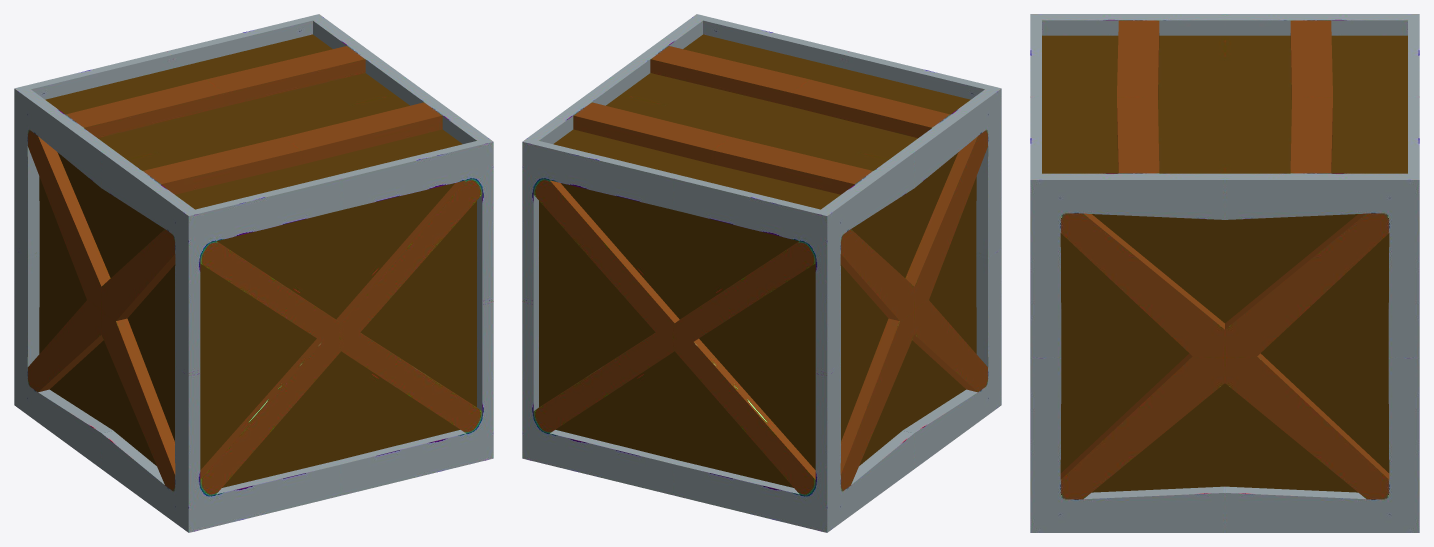
The model's file is browncrate.glb.
3 views of the same model, side by side, from view 1: azimuth 30°, elevation 25°; view 2: azimuth 150°, elevation 25°; view 3: azimuth 270°, elevation 25° (orthographic). The views are drawn at different scales.
Visible parts, largest first — view 1: Cube; view 2: Cube; view 3: Cube.
Part boxes in pixels (x1,y1,x2,y2): Cube: (14,14,493,532); Cube: (522,14,1001,532); Cube: (1030,14,1419,532).
Size of the model in its own units: 2 by 1.98 by 1.98.
1 material, 1 textured.
